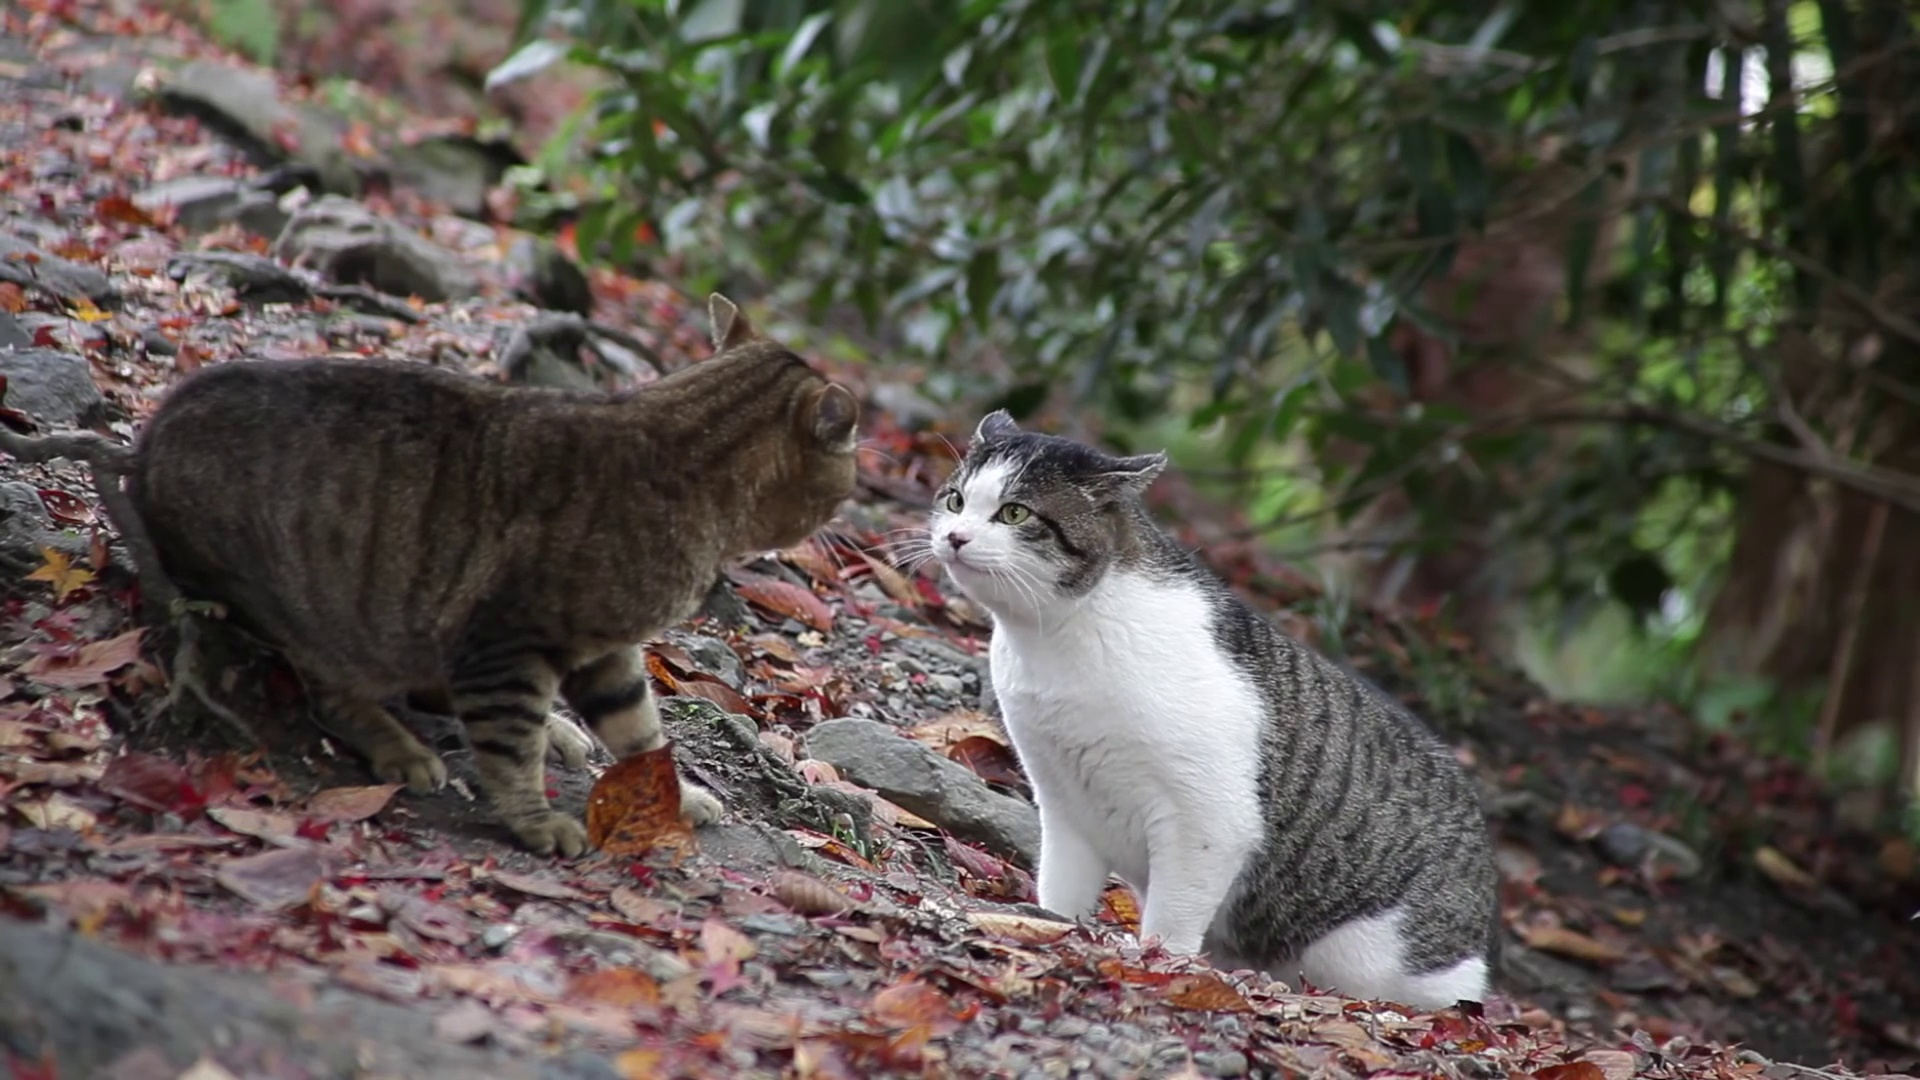black-white: (931, 407, 1487, 1010)
pure black: (137, 293, 856, 857)
